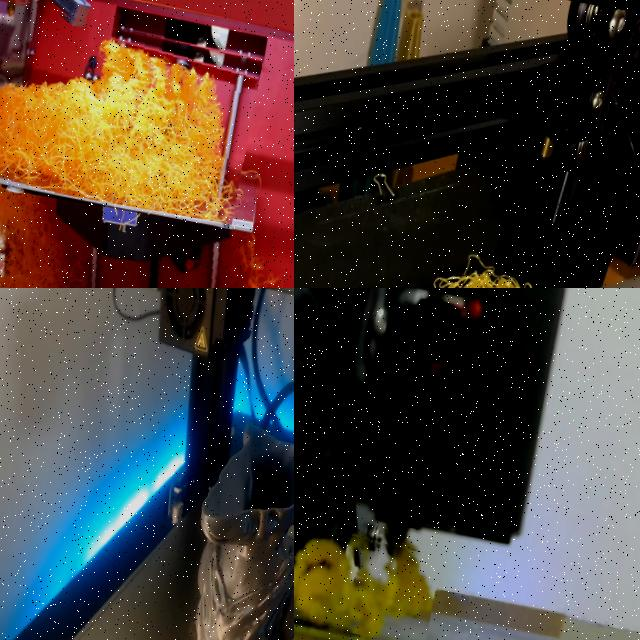spaghetti: (0, 0, 265, 224), (0, 171, 294, 288), (294, 537, 432, 637), (421, 243, 580, 288)
